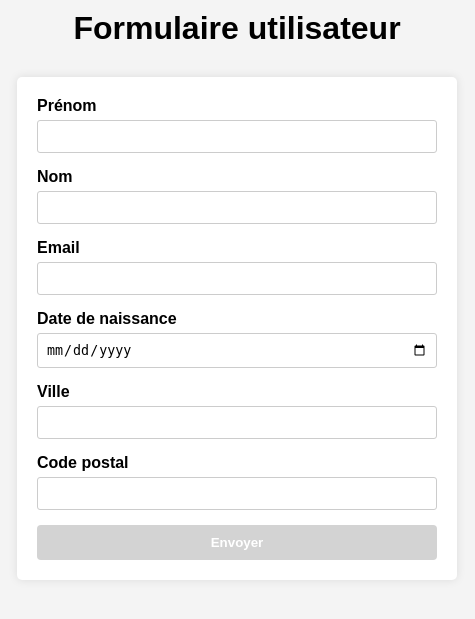
Test case: Integration test - User form › should display email error under email field
The image size is (475, 619).
In the field labelled "Email": (237, 278) [37, 262, 437, 295], type "anna-test.com"
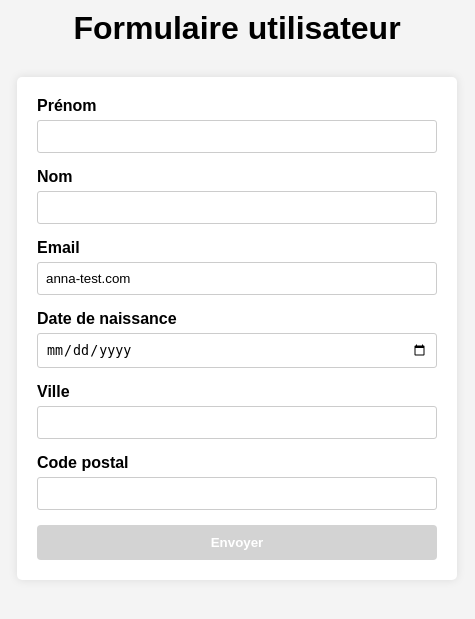
Leave the field labelled "Email", box [37, 262, 437, 295]
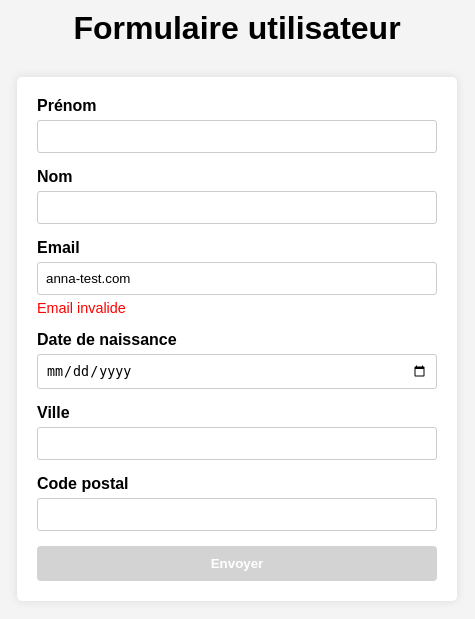
Now the text "Email invalide" is shown, box [37, 300, 126, 316]
